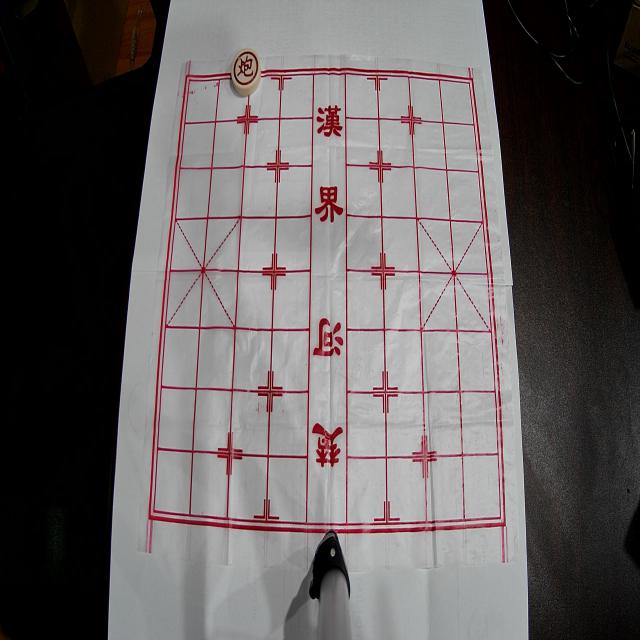red-cannon: (231, 48, 261, 96)
